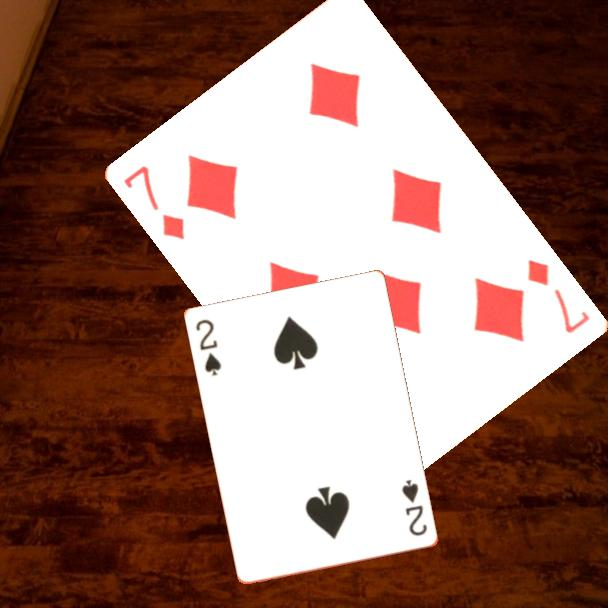d07: (524, 256, 594, 337), (120, 162, 189, 243)
s02: (193, 316, 225, 379), (399, 476, 430, 539)
